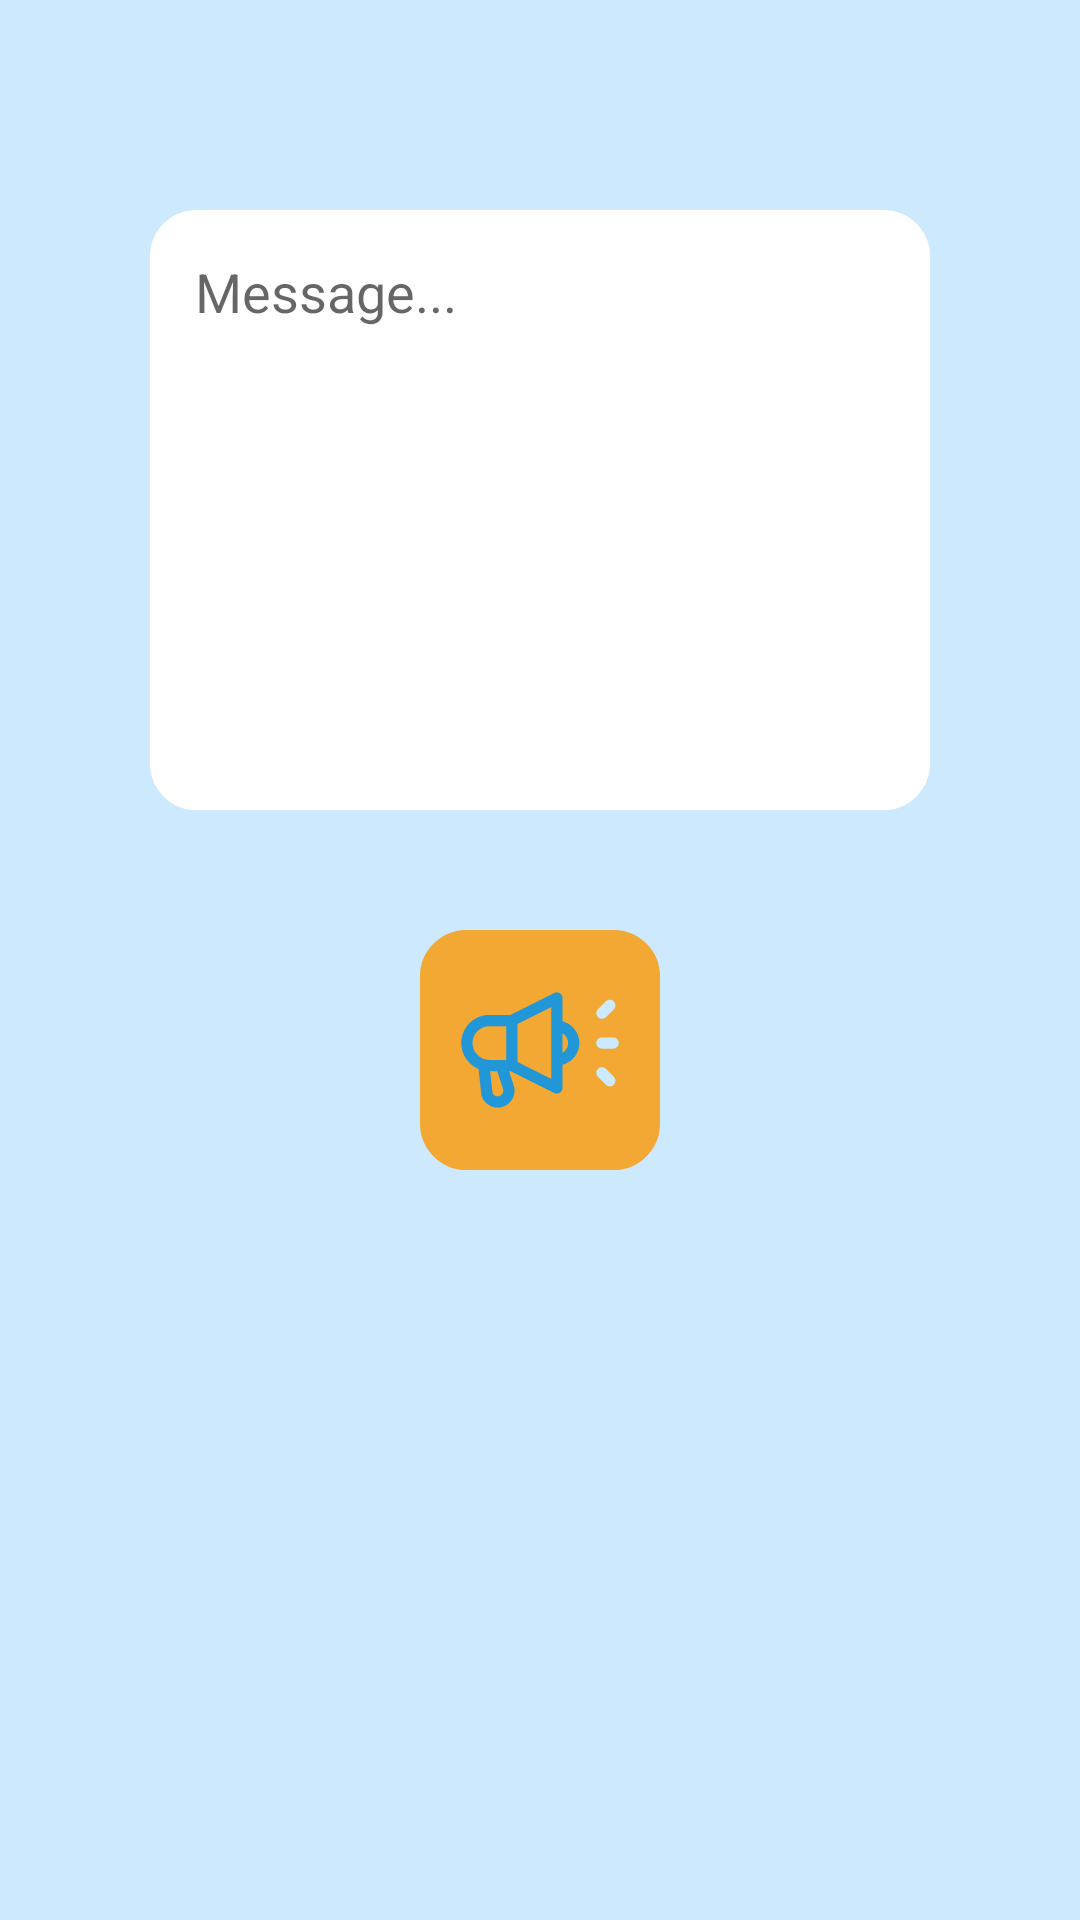

Icons on this 1080px x 1920px Android screen, each with the point to tap as point (x, y):
announce: point (540, 1050)
